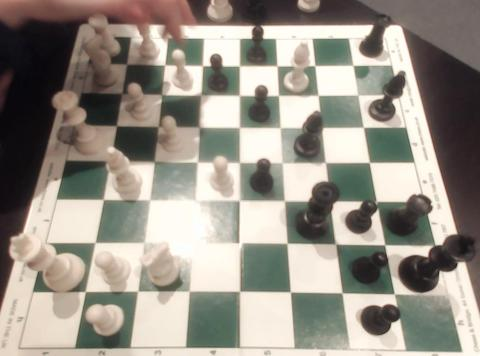xcorner: (269, 57, 283, 71), (231, 57, 245, 71), (271, 86, 285, 100), (231, 86, 245, 100), (152, 86, 166, 100), (357, 119, 371, 133), (315, 119, 329, 133), (231, 118, 245, 132), (190, 118, 204, 132), (148, 118, 162, 132), (107, 118, 121, 132), (319, 154, 333, 168), (275, 154, 289, 168), (231, 154, 245, 168), (144, 153, 158, 167), (100, 153, 114, 167), (371, 194, 385, 208), (324, 194, 338, 208), (231, 193, 245, 207), (185, 193, 199, 207), (93, 192, 107, 206), (231, 237, 245, 251), (85, 236, 99, 250), (388, 288, 402, 302), (283, 287, 297, 301), (76, 285, 90, 299), (346, 57, 359, 71), (308, 57, 321, 71), (194, 57, 207, 71), (156, 57, 169, 71), (118, 57, 132, 70), (351, 87, 365, 100), (311, 87, 325, 100), (192, 86, 205, 100), (113, 86, 126, 100), (273, 119, 287, 132), (139, 193, 153, 206), (379, 239, 393, 252), (330, 238, 343, 252), (280, 238, 294, 251), (183, 237, 196, 251), (134, 237, 148, 250), (336, 288, 349, 302), (231, 287, 245, 300), (180, 286, 193, 300), (128, 286, 142, 299), (364, 155, 377, 168), (188, 154, 201, 167), (278, 194, 291, 207)
